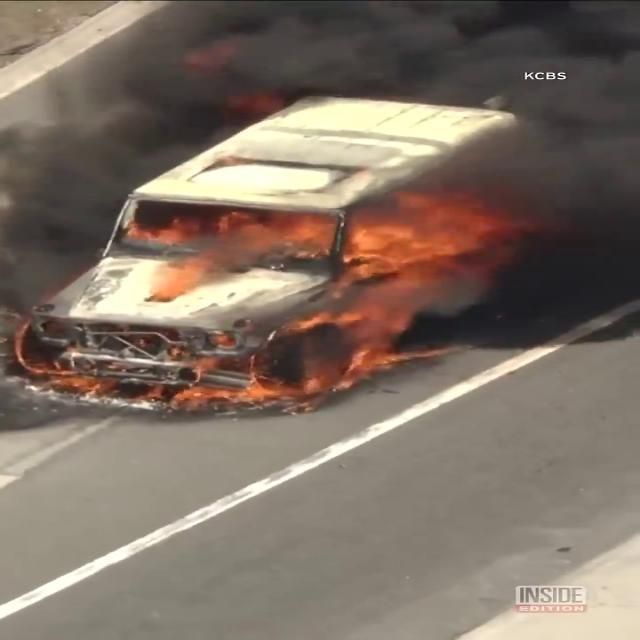Fire: (213, 208, 491, 319)
Smoke: (12, 0, 640, 179), (358, 0, 639, 326)
